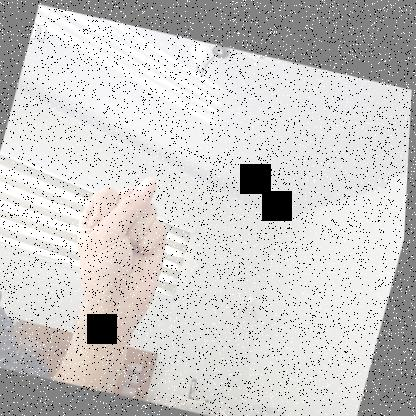S: (62, 162, 190, 311)
